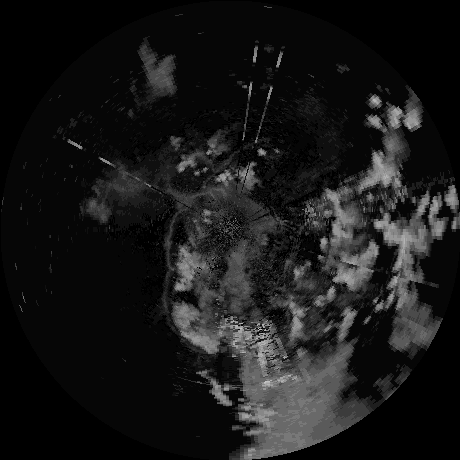frontgust: (204, 147, 251, 184), (164, 211, 182, 268), (160, 271, 172, 335)
